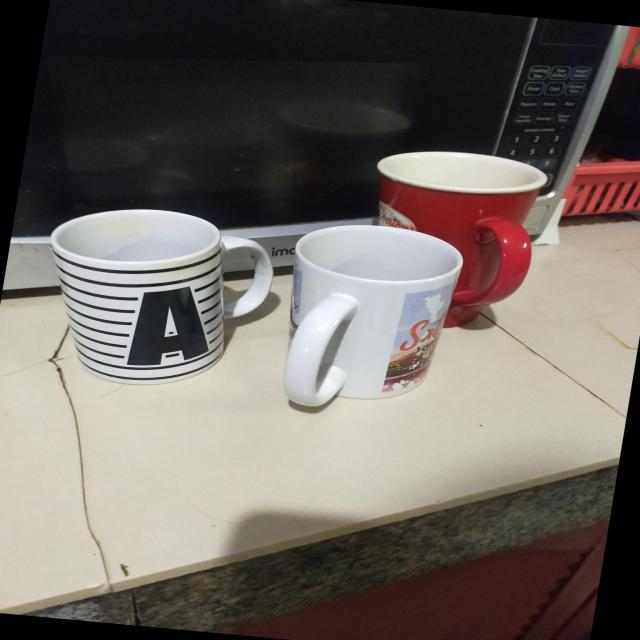taza: (49, 206, 273, 386), (286, 224, 462, 412), (382, 150, 558, 331)
